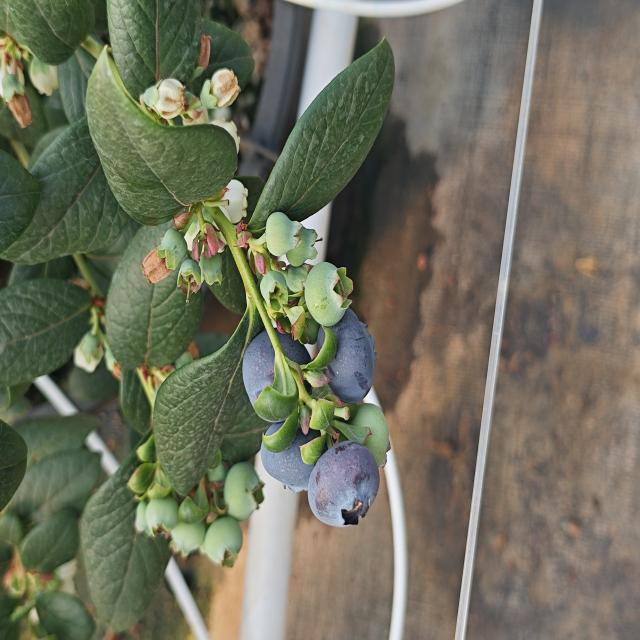ripe: (240, 326, 312, 425), (305, 439, 382, 530), (317, 306, 378, 406), (256, 419, 332, 496)
